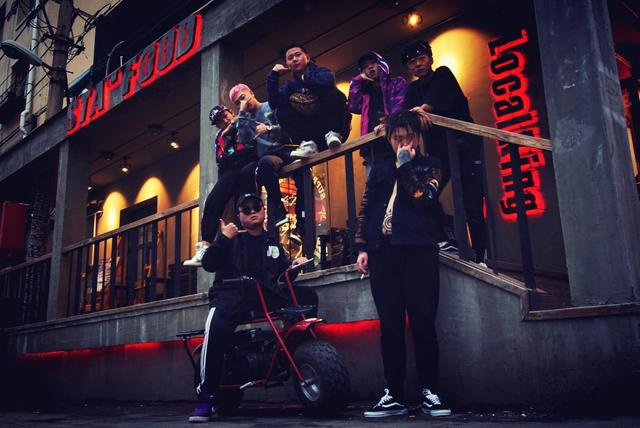handsup: (353, 114, 469, 417), (194, 189, 343, 415)
